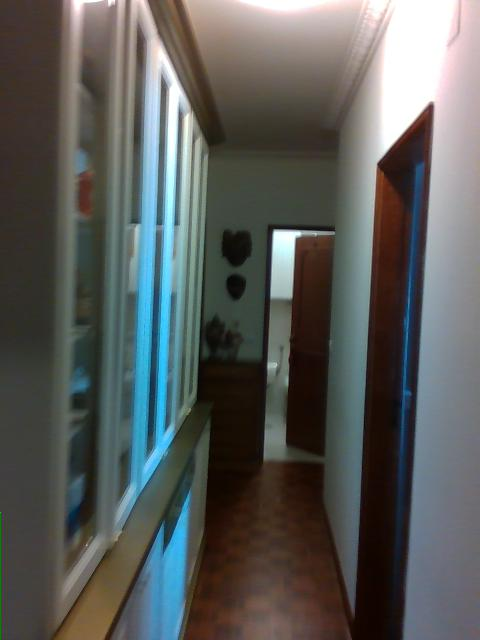semi_door: (258, 221, 335, 466)
